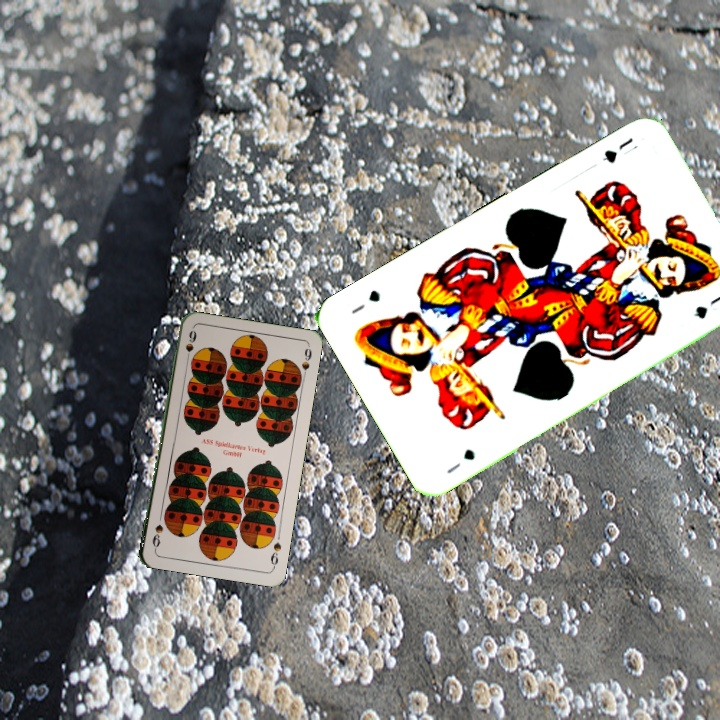GU: (598, 133, 641, 166), (442, 445, 478, 477)
S9: (181, 326, 198, 366), (266, 538, 284, 571)
